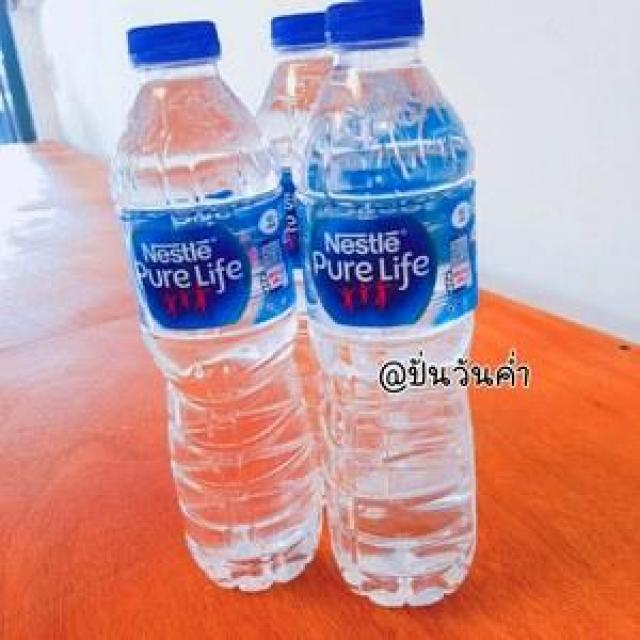bottle: (83, 5, 318, 607), (292, 0, 485, 610)
